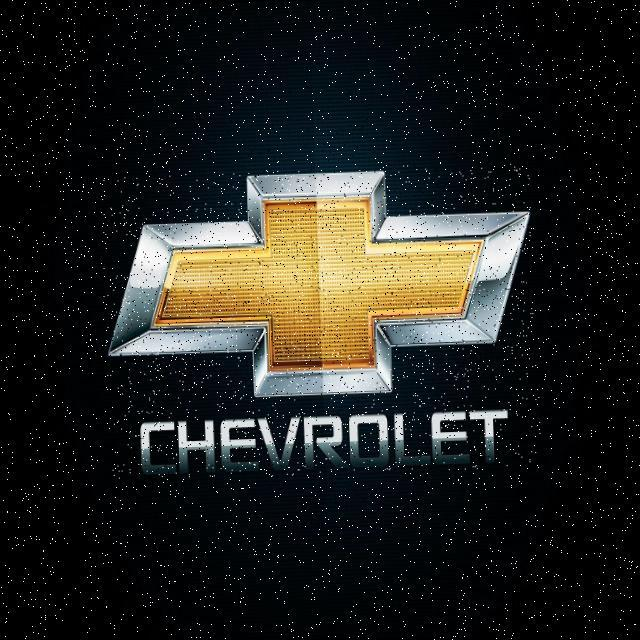Chevrolet: (100, 161, 542, 482)
